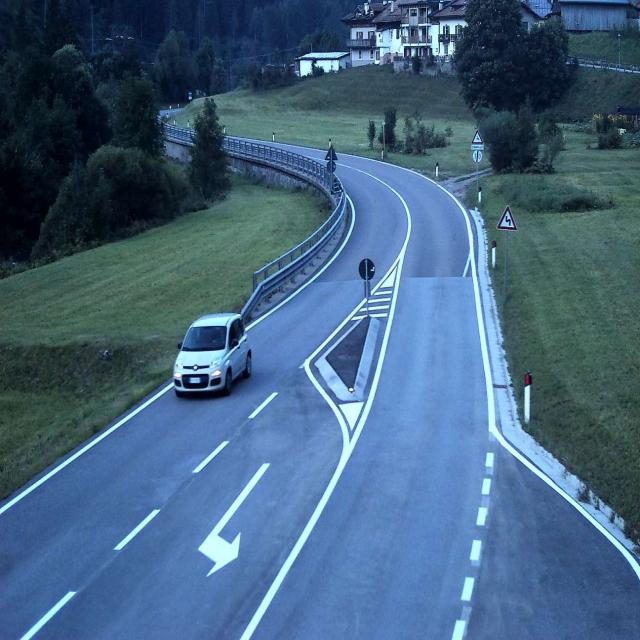car: (172, 311, 252, 397)
